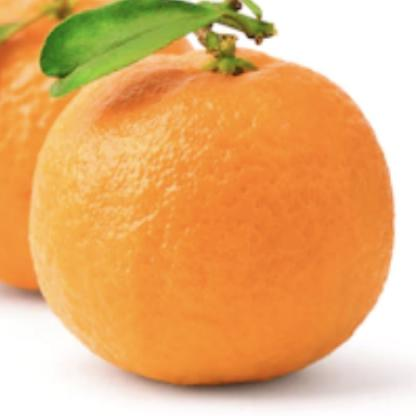fresh: (31, 40, 396, 376)
